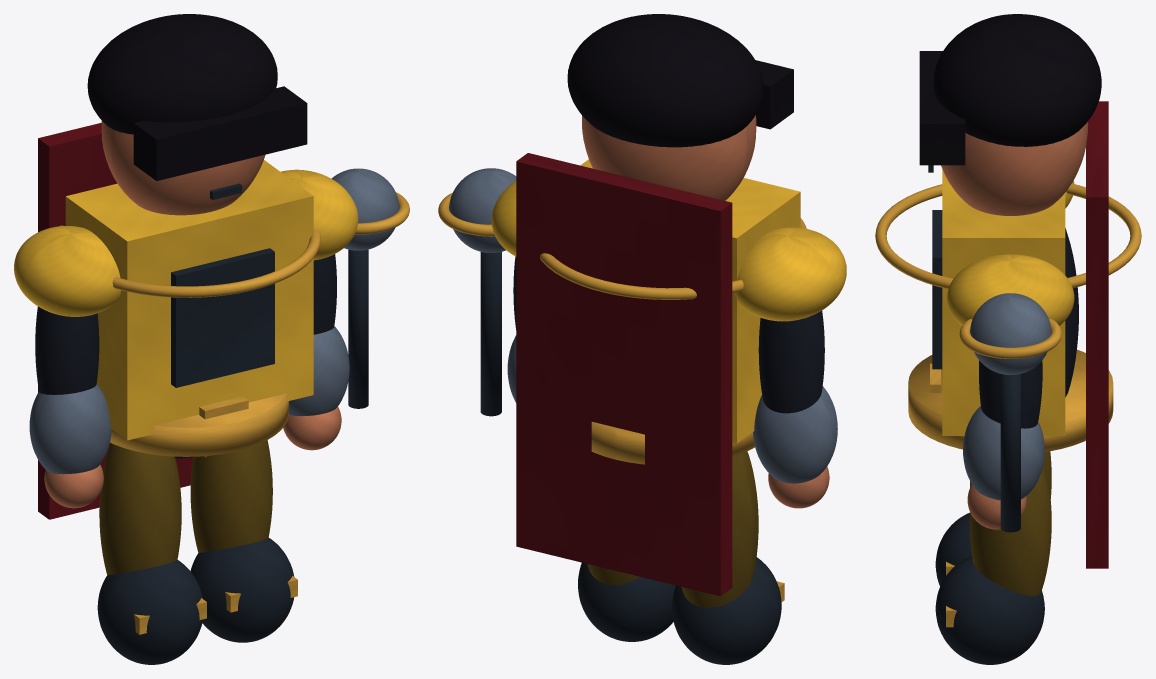
File: Specialization.glb
3 views of the same model, side by side, from view 1: azimuth 30°, elevation 25°; view 2: azimuth 150°, elevation 25°; view 3: azimuth 270°, elevation 25° (orthographic). The views are drawn at different scales.
Visible parts, largest first — view 1: ChestPlate, Hair, ChestInset, HairFringe, Leg, Boot, Boot.001, Leg.001, Shoulder, Cape, Head, Gauntlet (+12 smaller); view 2: Cape, Hair, Shoulder, Head, ChestPlate, Boot, Arm, Gauntlet, Boot.001, Leg, MaceHandle, MaceHead (+7 smaller); view 3: Hair, ChestPlate, Cape, Head, Boot.001, Leg.001, Shoulder.001, WaistGuard, MaceHead, Gauntlet.001, HairFringe, ShoulderCrest (+7 smaller).
Boxes of the visible parts, bbox=[...] form: ChestPlate: bbox=[65, 160, 313, 440]; Hair: bbox=[87, 14, 277, 134]; ChestInset: bbox=[171, 248, 274, 387]; HairFringe: bbox=[133, 86, 307, 180]; Leg: bbox=[99, 443, 181, 575]; Boot: bbox=[97, 560, 202, 664]; Boot.001: bbox=[190, 537, 294, 642]; Leg.001: bbox=[190, 440, 272, 552]; Shoulder: bbox=[14, 226, 121, 316]; Cape: bbox=[38, 122, 192, 519]; Head: bbox=[101, 121, 265, 215]; Gauntlet: bbox=[29, 384, 111, 474]; Cape: bbox=[516, 153, 732, 596]; Hair: bbox=[567, 14, 763, 147]; Shoulder: bbox=[734, 227, 846, 321]; Head: bbox=[582, 115, 756, 200]; ChestPlate: bbox=[580, 159, 800, 443]; Boot: bbox=[672, 557, 781, 664]; Arm: bbox=[758, 310, 824, 413]; Gauntlet: bbox=[753, 386, 837, 483]; Boot.001: bbox=[578, 562, 675, 641]; Leg: bbox=[681, 451, 758, 607]; MaceHandle: bbox=[480, 252, 501, 416]; MaceHead: bbox=[449, 168, 516, 252]; Hair: bbox=[933, 14, 1101, 146]; ChestPlate: bbox=[942, 169, 1065, 435]; Cape: bbox=[1086, 101, 1108, 568]; Head: bbox=[941, 121, 1088, 215]; Boot.001: bbox=[935, 556, 1044, 664]; Leg.001: bbox=[969, 462, 1051, 595]; Shoulder.001: bbox=[947, 254, 1074, 325]; WaistGuard: bbox=[908, 349, 1113, 451]; MaceHead: bbox=[970, 293, 1051, 374]; Gauntlet.001: bbox=[963, 406, 1044, 500]; HairFringe: bbox=[919, 51, 965, 165]; ShoulderCrest: bbox=[875, 183, 1141, 288].
Bounding box in the file's own units: 1.92 × 2.96 × 1.17.
Materials: 11 (9 with a texture image).
